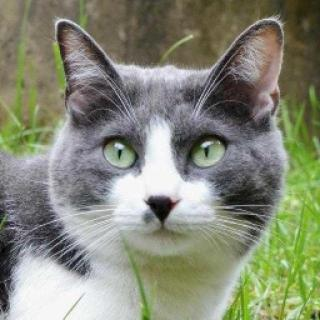cat: (50, 12, 290, 265)
nose: (139, 169, 188, 226)
